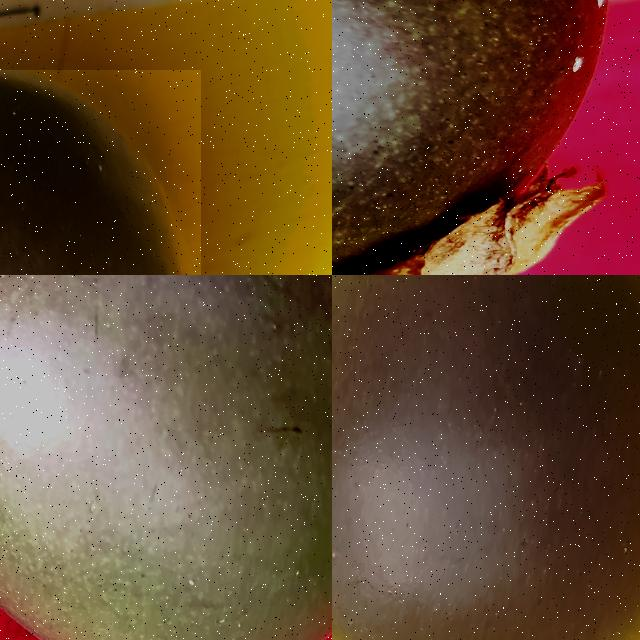Estado-3: (332, 0, 638, 275)
Estado-6: (332, 275, 640, 640), (0, 75, 188, 275)
